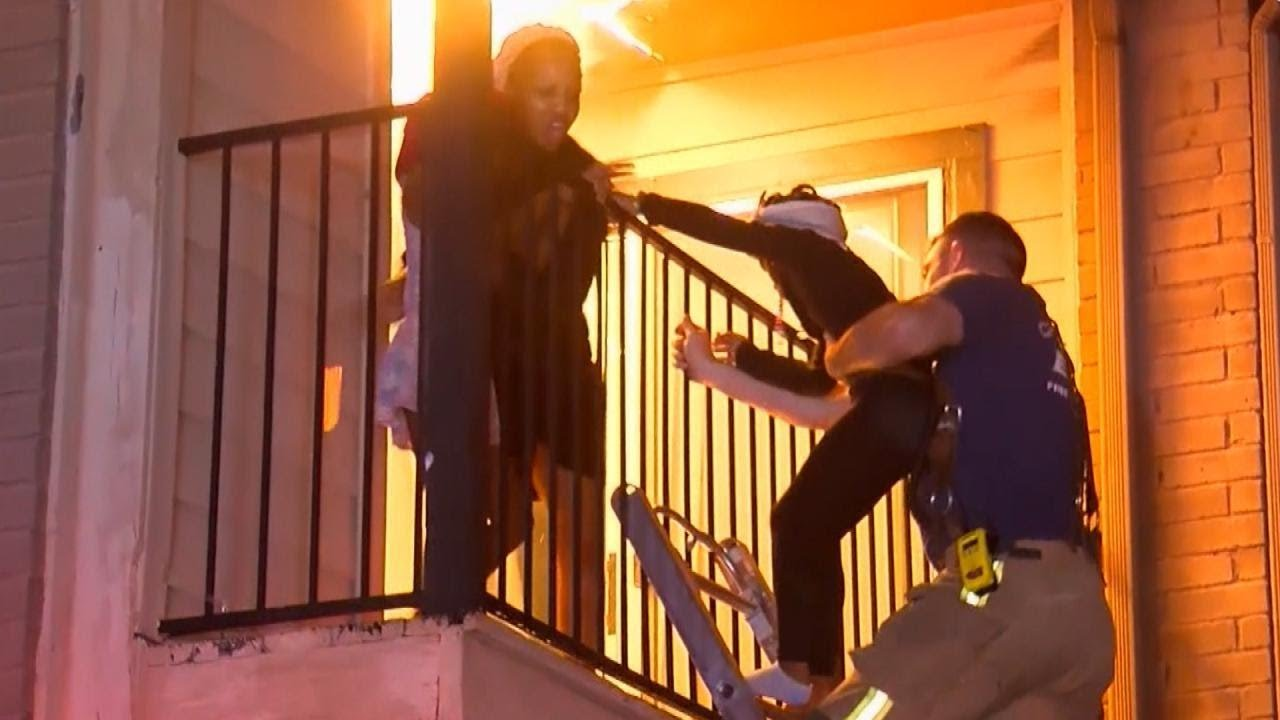Fire: (540, 3, 623, 32)
